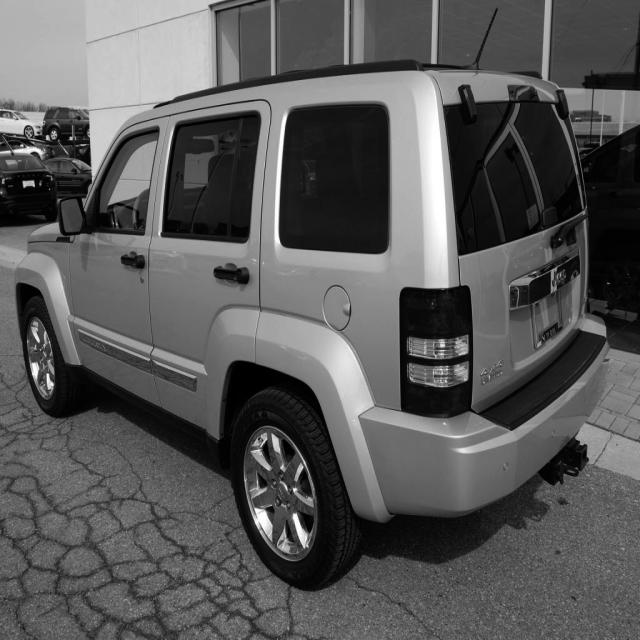car: (14, 59, 609, 593)
